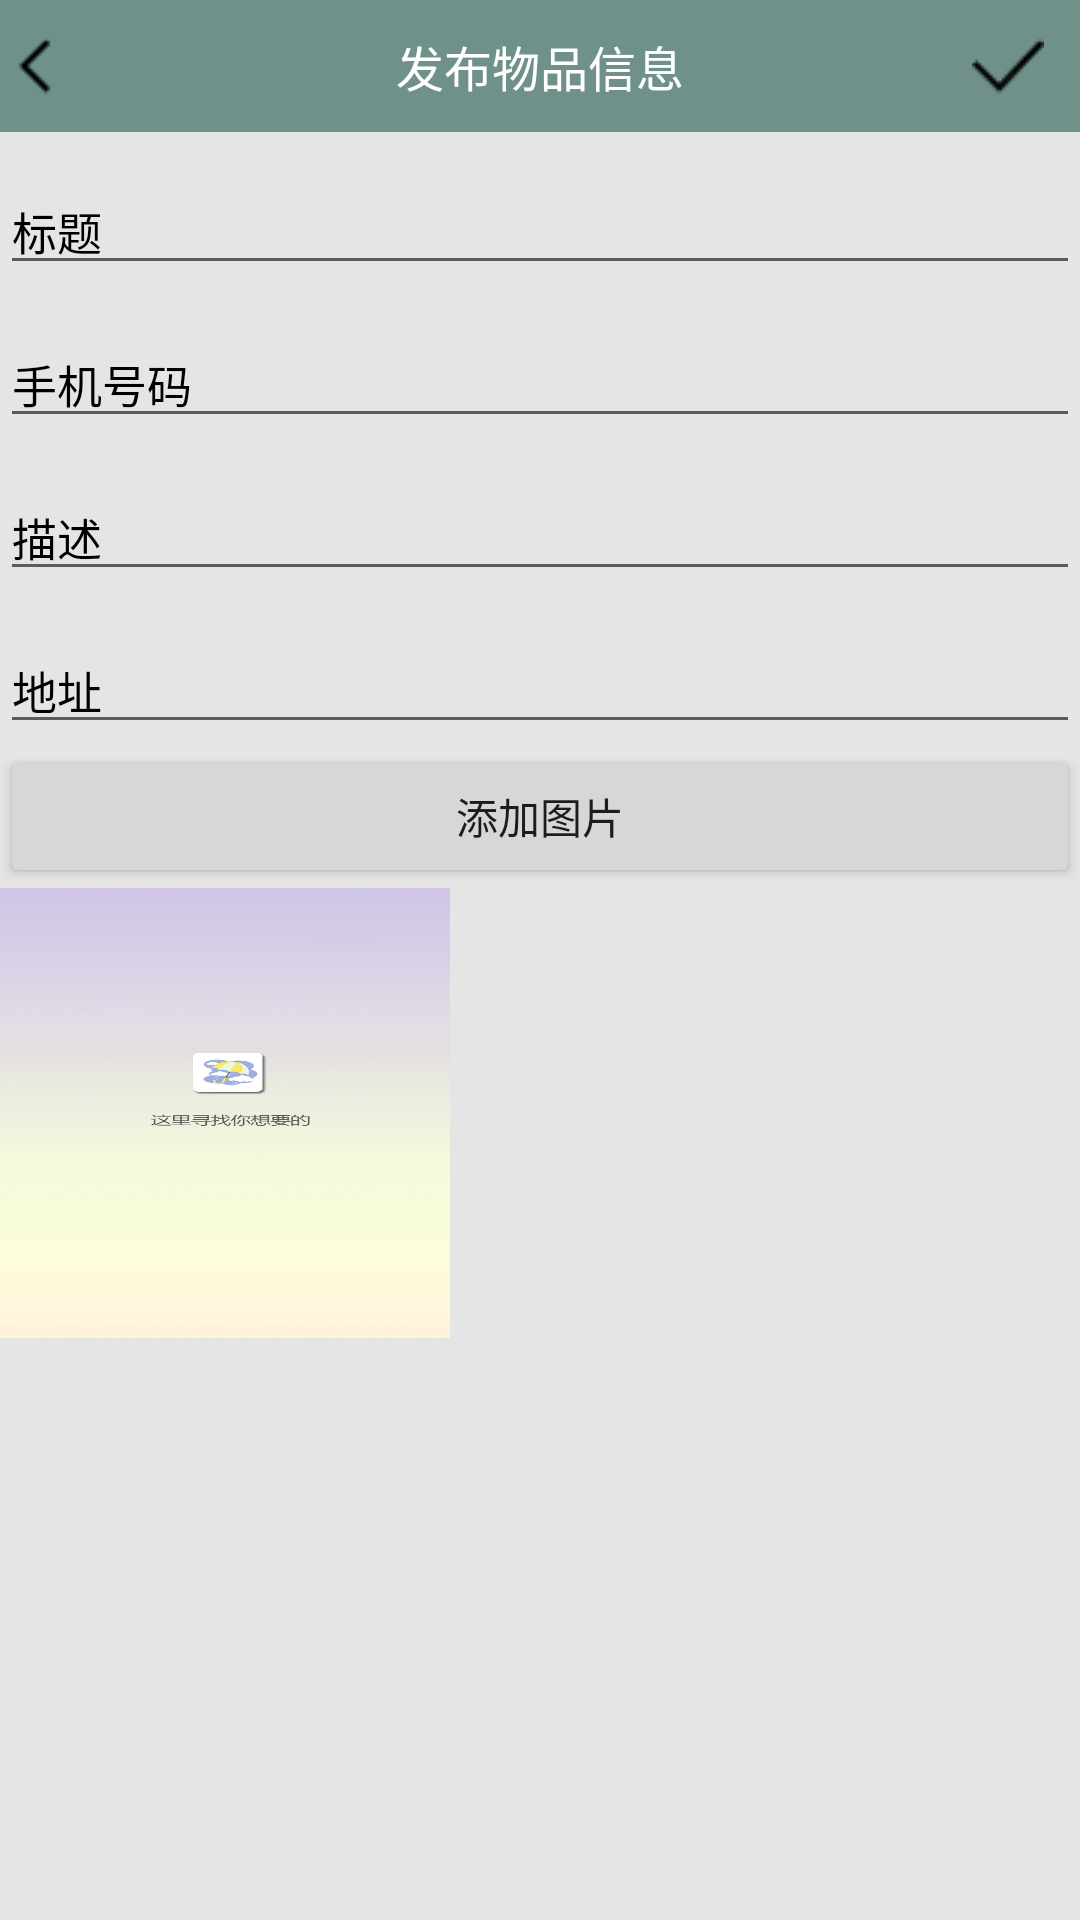

Where to tap for icons on this 1080px×1920px app screen, as (x=x, y=y):
back: (x=34, y=67)
gou: (x=1008, y=66)
